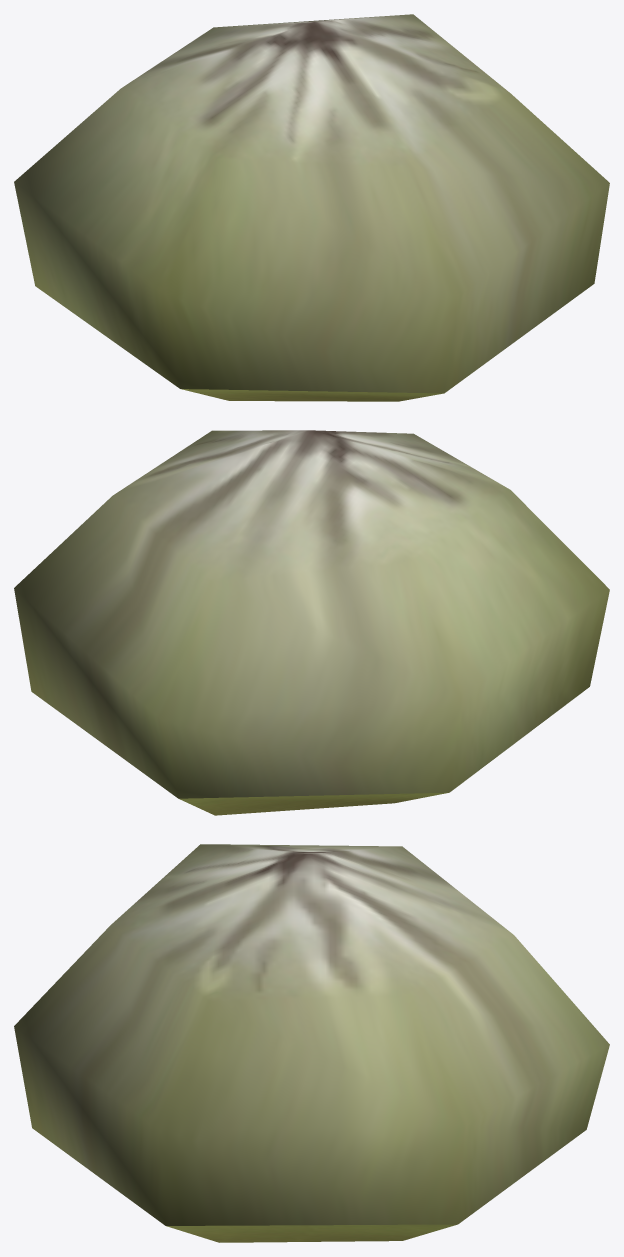
File: Item0103.obj
3 views of the same model, one above another, from view 1: azimuth 30°, elevation 25°; view 2: azimuth 150°, elevation 25°; view 3: azimuth 270°, elevation 25° (orthographic). The views are drawn at different scales.
Visible parts, largest first — view 1: 0; view 2: 0; view 3: 0.
Part boxes in pixels (left/top/right/bottom): 0: left=14, top=14, right=609, bottom=401; 0: left=14, top=430, right=609, bottom=815; 0: left=14, top=844, right=609, bottom=1242.
Bounding box in the file's own units: 12.51 × 8.51 × 14.08.
